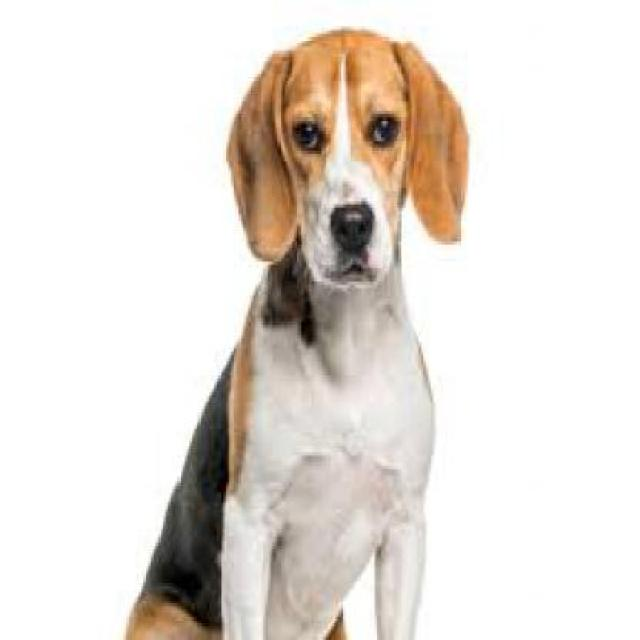Dog: (125, 23, 477, 637)
